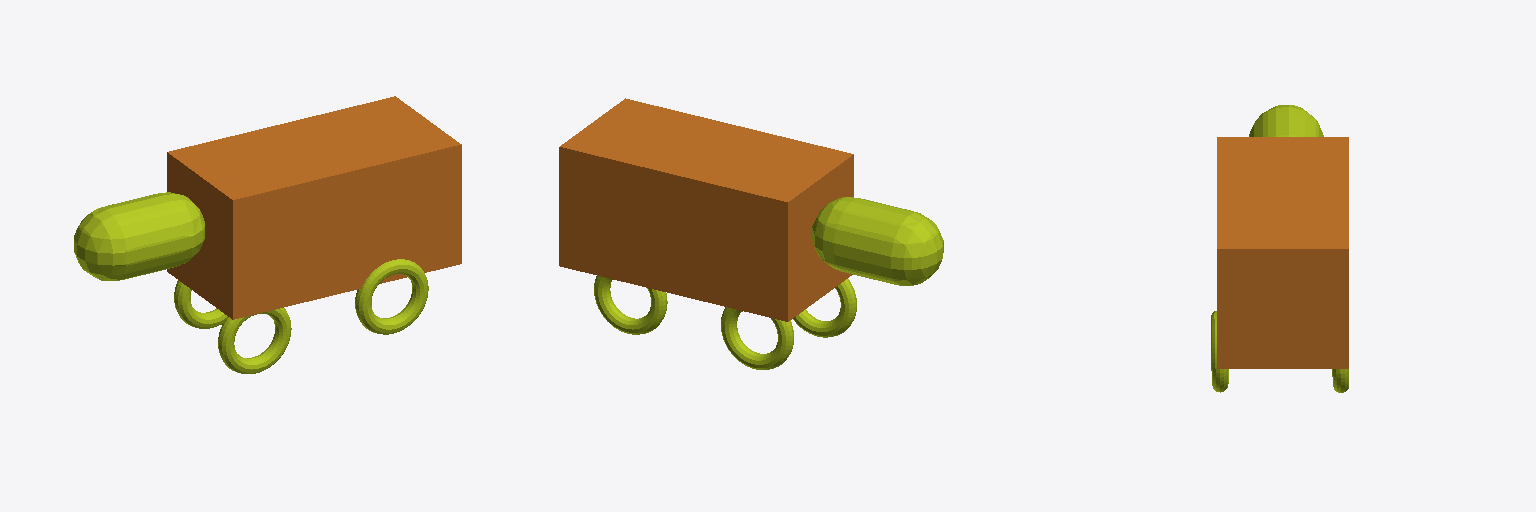
3 renders of one model, left to right at view 1: azimuth 30°, elevation 25°; view 2: azimuth 150°, elevation 25°; view 3: azimuth 270°, elevation 25°, orthographic.
Parts seen in each view (by area): view 1: Cube, Mball, Torus.001, Torus.002, Torus.003; view 2: Cube, Mball, Torus.003, Torus, Torus.002; view 3: Cube, Mball, Torus.001.
Boxes of the visible parts, <box> form: Cube: <box>167,96,461,319</box>; Mball: <box>74,192,204,280</box>; Torus.001: <box>355,259,428,334</box>; Torus.002: <box>218,308,291,373</box>; Torus.003: <box>174,280,226,328</box>; Cube: <box>559,98,853,321</box>; Mball: <box>812,197,943,285</box>; Torus.003: <box>721,307,793,369</box>; Torus: <box>594,276,667,334</box>; Torus.002: <box>793,279,856,337</box>; Cube: <box>1217,137,1348,368</box>; Mball: <box>1249,105,1323,136</box>; Torus.001: <box>1211,311,1228,392</box>.
Size of the model in its own units: 12.18 by 6.16 by 4.21.